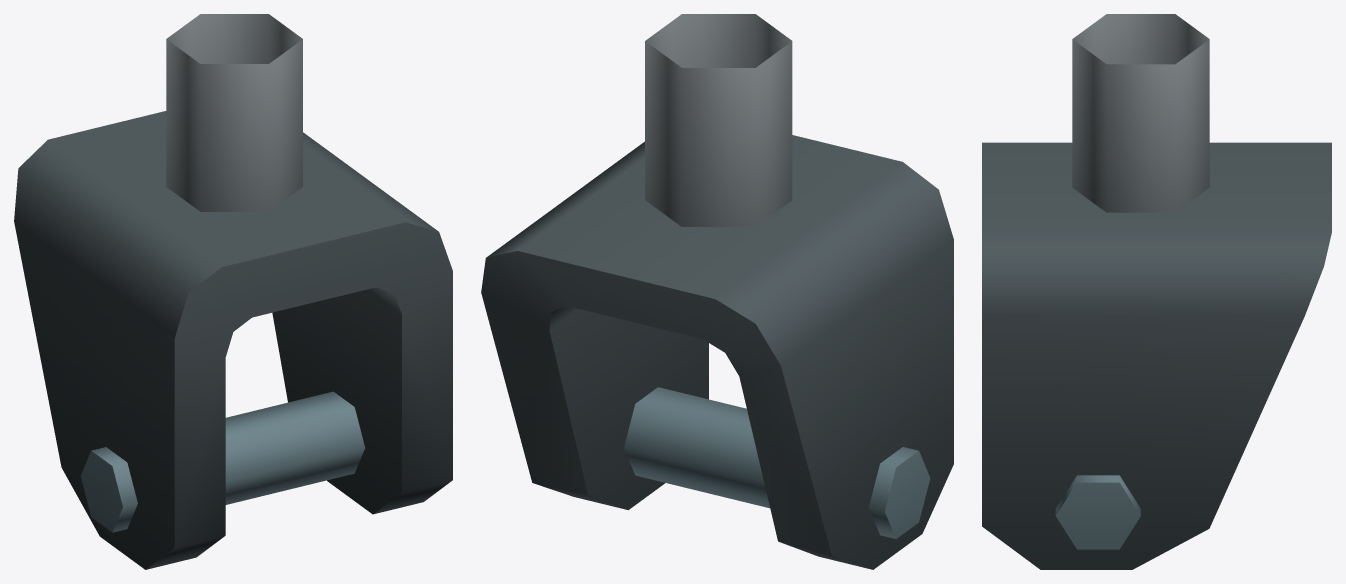
The model's file is Wheel_Base_01.fbx.
3 renders of one model, left to right at view 1: azimuth 30°, elevation 25°; view 2: azimuth 150°, elevation 25°; view 3: azimuth 270°, elevation 25°, orthographic. The views are drawn at different scales.
Visible parts, largest first — view 1: Wheel_Base_01; view 2: Wheel_Base_01; view 3: Wheel_Base_01.
Boxes of the visible parts, x1,y1,x2,y2 form: Wheel_Base_01: (14,14,452,569); Wheel_Base_01: (481,14,953,569); Wheel_Base_01: (982,14,1331,569).
Bounding box in the file's own units: 9.97 × 9.75 × 14.23.
